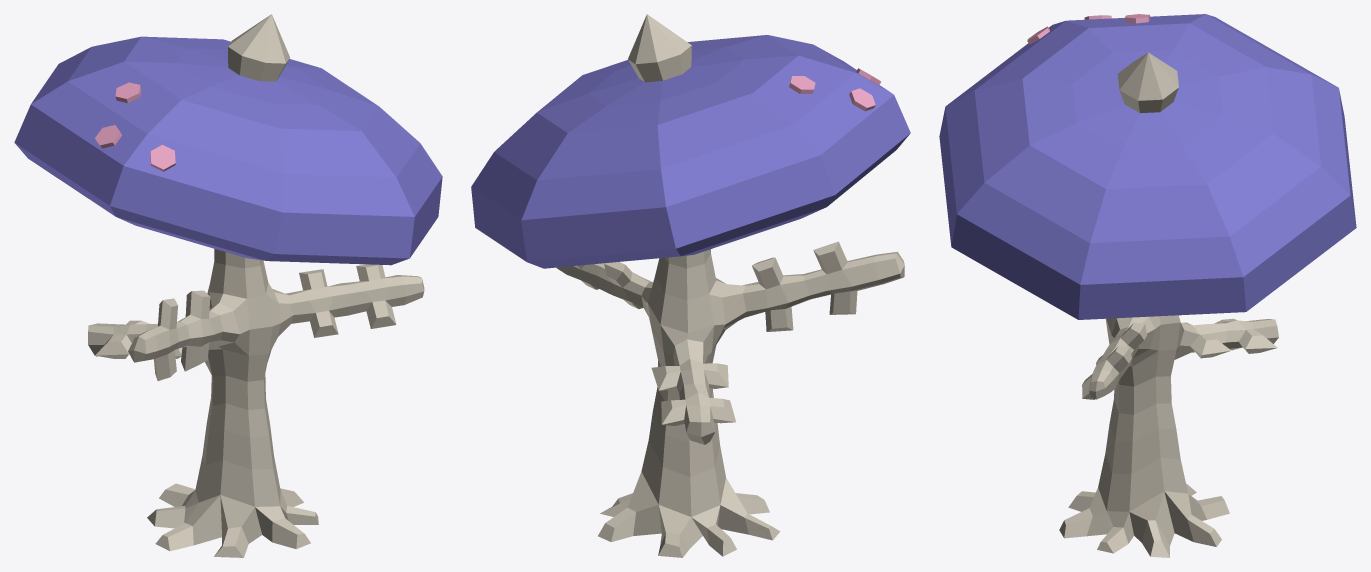
Rendered from Tree2a.fbx.
3 renders of one model, left to right at view 1: azimuth 30°, elevation 25°; view 2: azimuth 150°, elevation 25°; view 3: azimuth 270°, elevation 25°, orthographic. The views are drawn at different scales.
Parts seen in each view (by area): view 1: Circle; view 2: Circle; view 3: Circle.
Boxes of the visible parts, <box> form: Circle: <box>14,14,442,557</box>; Circle: <box>471,14,910,557</box>; Circle: <box>939,14,1356,557</box>.
Size of the model in its own units: 293 by 389 by 301.
